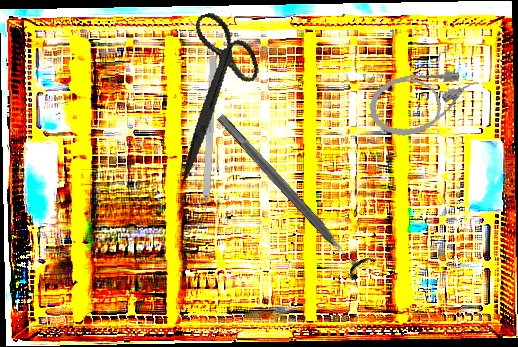Cannula: (364, 62, 487, 142)
Fixation Ring: (207, 104, 377, 284)
Hook Surgical: (200, 55, 218, 229)
Iris Scissors: (141, 4, 283, 181)
